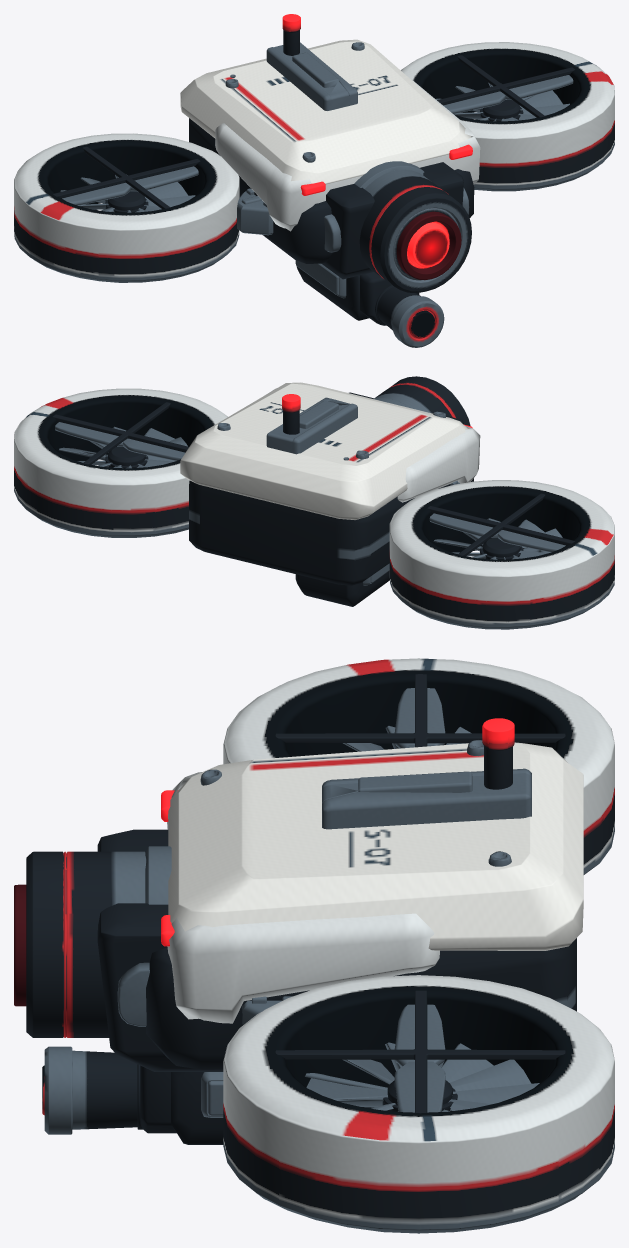
Rendered from drone_robot_smartuv.fbx.
The picture shows the model from 3 angles, top to bottom: view 1: azimuth 30°, elevation 25°; view 2: azimuth 150°, elevation 25°; view 3: azimuth 270°, elevation 25°; orthographic projection. The views are drawn at different scales.
Visible parts, largest first — view 1: tripo_05119d92_7611_40c6_8f7e_cc6bed891aca; view 2: tripo_05119d92_7611_40c6_8f7e_cc6bed891aca; view 3: tripo_05119d92_7611_40c6_8f7e_cc6bed891aca.
Part boxes in pixels (box(x1,y1,x2,y2)): tripo_05119d92_7611_40c6_8f7e_cc6bed891aca: box(14, 14, 614, 347); tripo_05119d92_7611_40c6_8f7e_cc6bed891aca: box(14, 376, 614, 629); tripo_05119d92_7611_40c6_8f7e_cc6bed891aca: box(14, 658, 614, 1233).
Bounding box in the file's own units: 99.95 × 39.31 × 52.69.
1 material, 1 textured.
